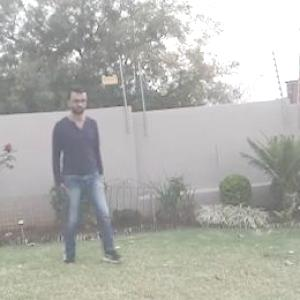follow: (50, 89, 107, 257)
